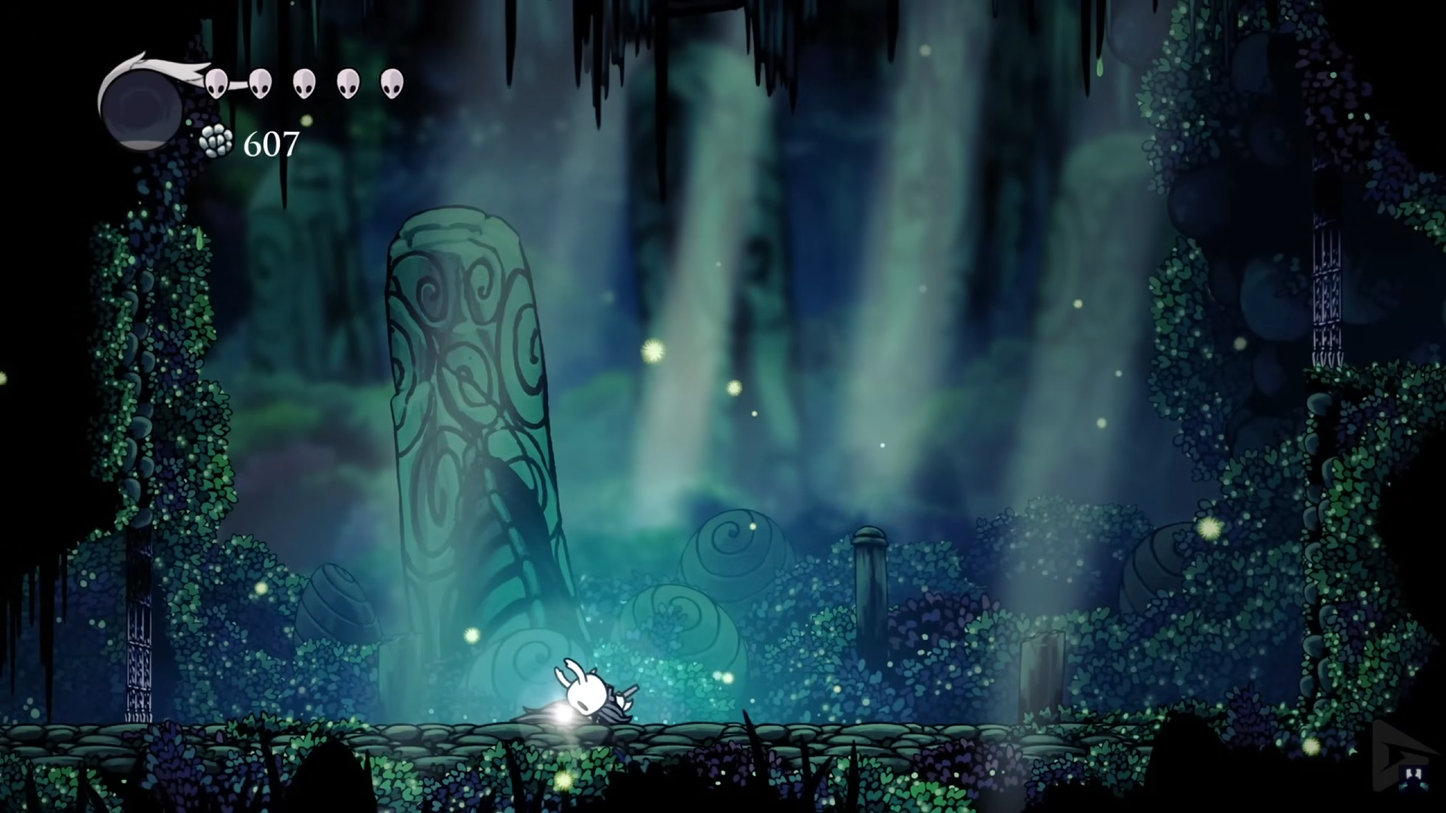HK: (551, 655, 643, 729)
